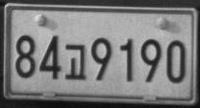0: (164, 38, 187, 84)
1: (116, 38, 138, 81)
4: (38, 34, 63, 80)
8: (14, 33, 36, 78)
9: (90, 36, 112, 81), (140, 37, 162, 82)
고: (64, 43, 87, 79)
